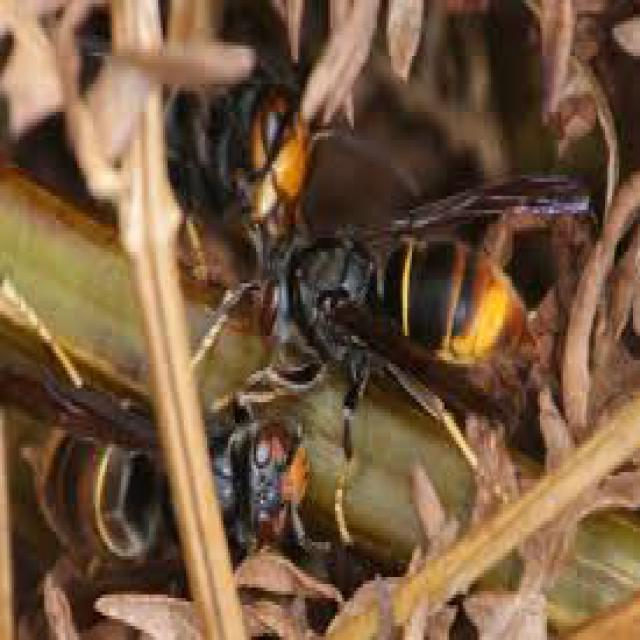Vespa Velutina: (232, 173, 596, 454)
